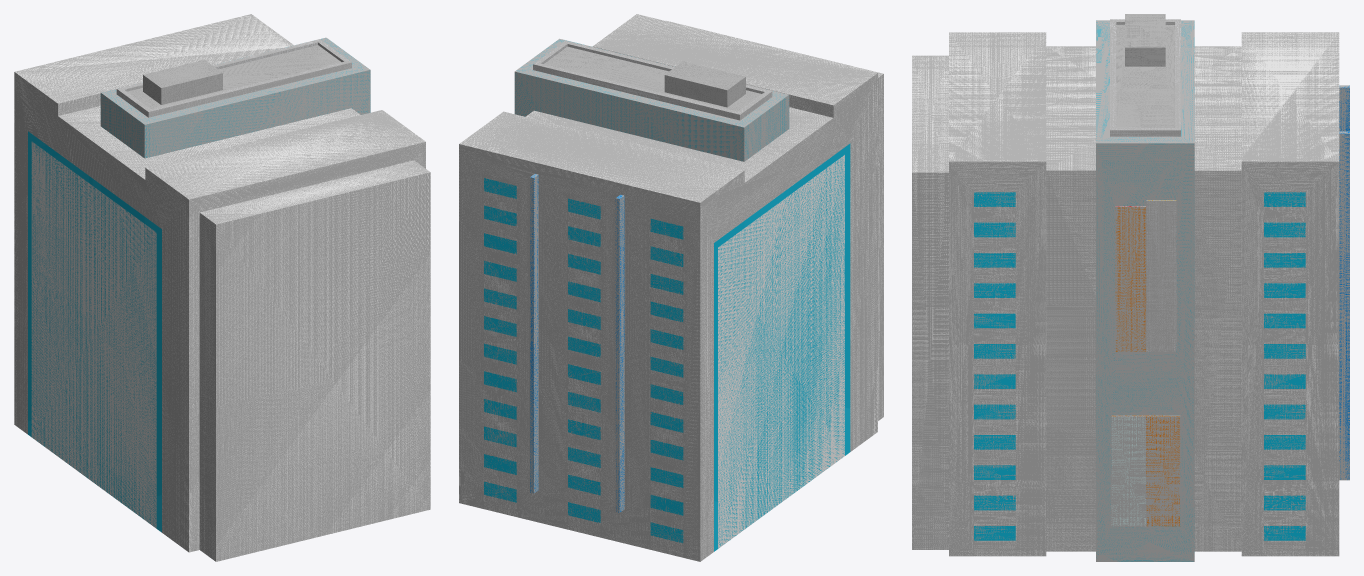
Rendered from Building4.fbx.
3 views of the same model, side by side, from view 1: azimuth 30°, elevation 25°; view 2: azimuth 150°, elevation 25°; view 3: azimuth 270°, elevation 25° (orthographic). The views are drawn at different scales.
Visible parts, largest first — view 1: Group1; view 2: Group1; view 3: Group1.
Boxes of the visible parts, left/top/right/bottom form: Group1: left=14, top=14, right=430, bottom=561; Group1: left=459, top=14, right=883, bottom=561; Group1: left=912, top=14, right=1349, bottom=561.
Bounding box in the file's own units: 3769 × 5716 × 5143.
